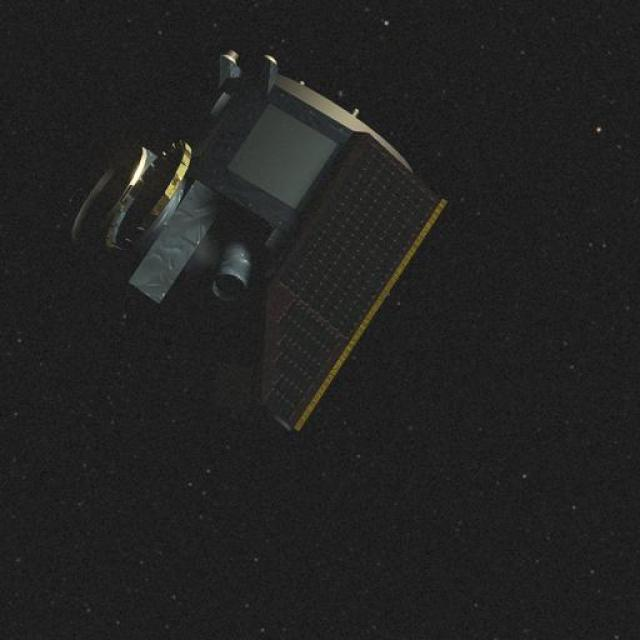debris: (33, 31, 442, 430)
